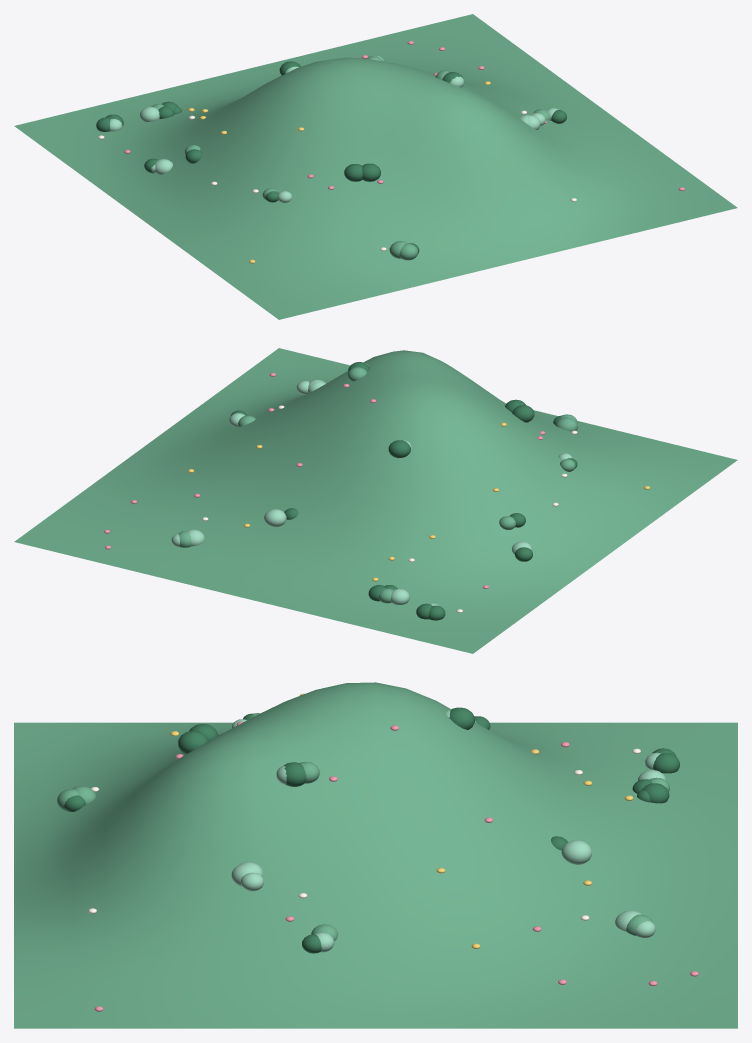
Rendered from land_meadow.glb.
The picture shows the model from 3 angles, top to bottom: view 1: azimuth 30°, elevation 25°; view 2: azimuth 150°, elevation 25°; view 3: azimuth 270°, elevation 25°; orthographic projection. The views are drawn at different scales.
Parts seen in each view (by area): view 1: land_meadow; view 2: land_meadow; view 3: land_meadow.
Part boxes in pixels (left/top/right/bottom): land_meadow: left=14, top=14, right=737, bottom=319; land_meadow: left=14, top=348, right=737, bottom=653; land_meadow: left=14, top=682, right=737, bottom=1028.
Size of the model in its own units: 40 by 9.75 by 40.
1 material, 1 textured.
